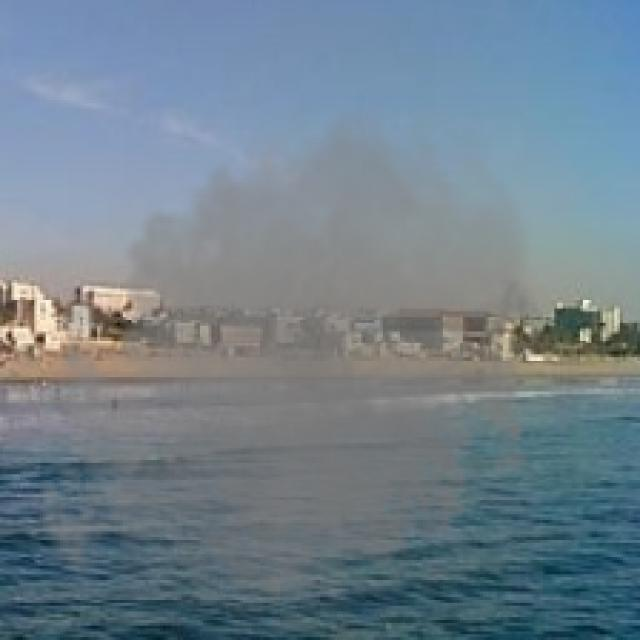smoke: (23, 89, 554, 637)
